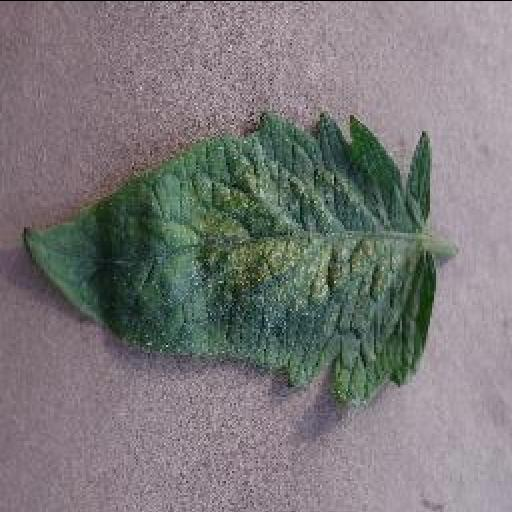disease_tomato: (22, 110, 436, 406)
